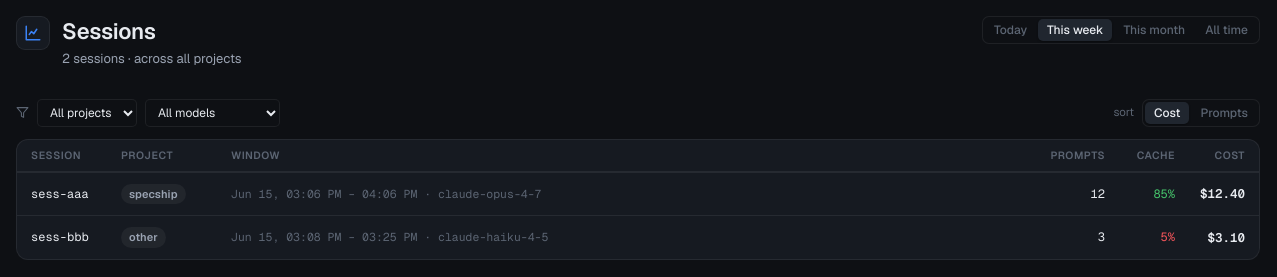
Scenario: SessionsPage (REQ-DESKTOP-024) › A2: the project filter narrows the rows and rides the request
Check: the text "sess-aaa" is shown, box [31,186,89,202]
Step 1. Select "specship" in the dropdown named "Project filter" → (87, 113), box [37,99,137,127]
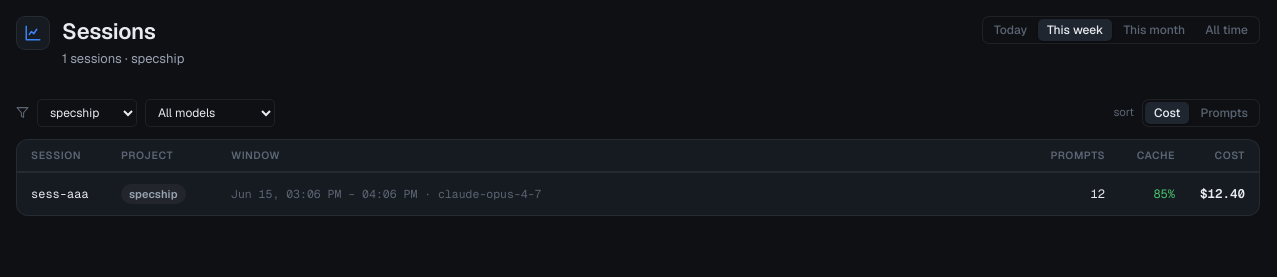
Check: the text "sess-aaa" is shown, box [31,186,89,202]
Check: the text "1 sessions · specship" is shown, box [62,50,184,67]
Check: the button "sess-bbb" is gone
